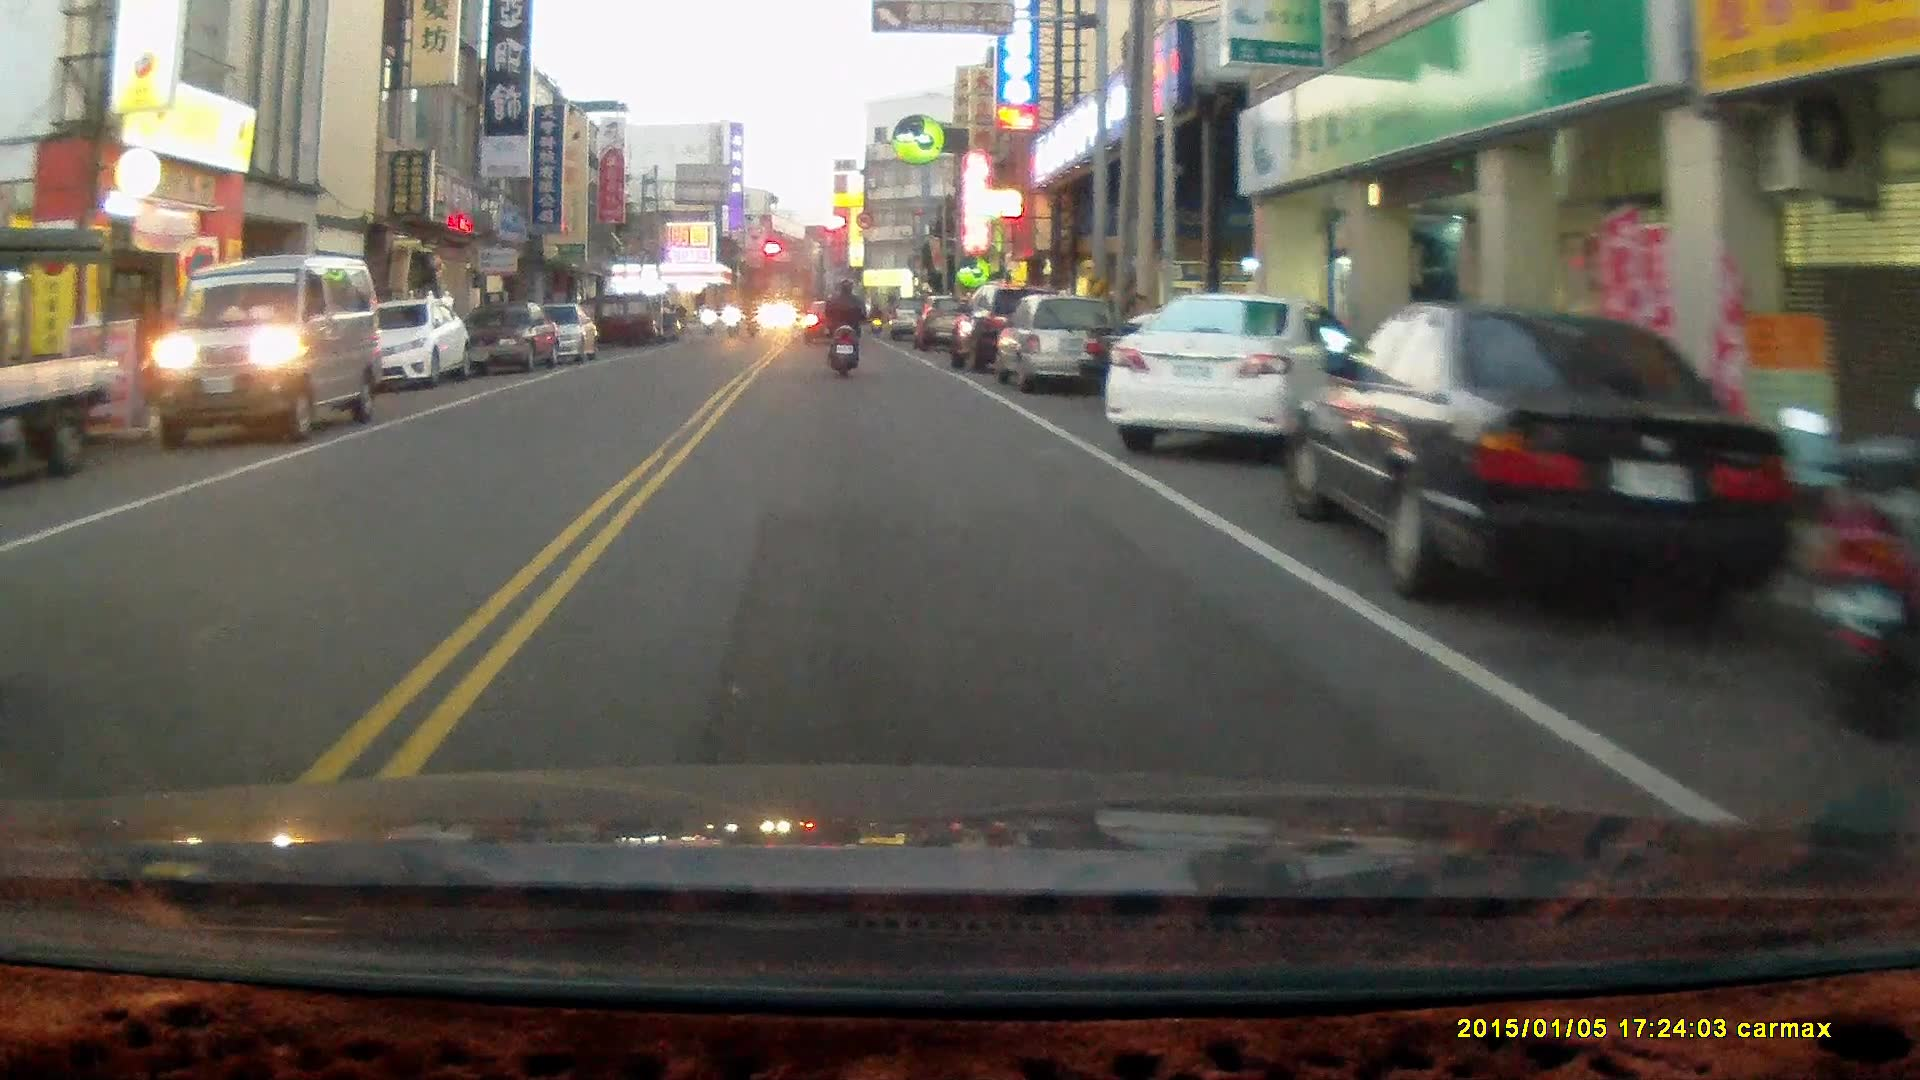rider: (822, 276, 868, 378)
vehicle: (1288, 301, 1834, 602), (159, 256, 386, 445), (1105, 289, 1354, 458), (0, 221, 111, 480), (993, 292, 1125, 393), (354, 300, 473, 390)
